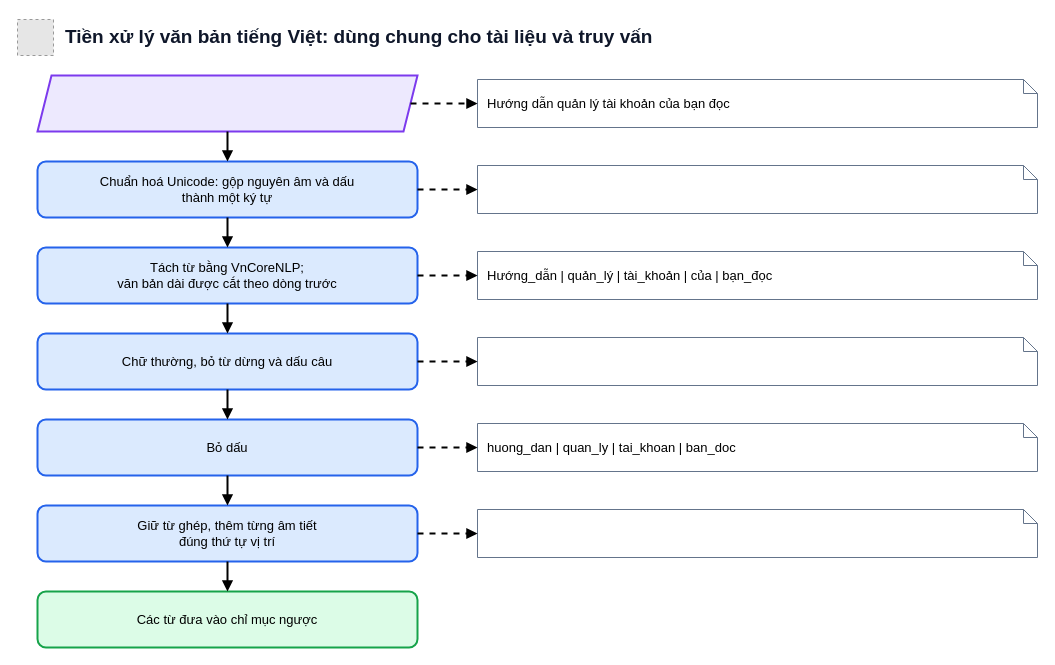
Some shapes in this 1055 by 665 pixel diagram are drawn without their labels. Grey dashed boxes stand in for pictures. The box of each missing label's shape, as (x1, y1, x2, y2) in pixels:
chữ gõ hoặc dán có dấu tách rời vẫn khớp: (476, 164, 1038, 214)
huong_dan huong dan | quan_ly quan ly | tai_khoan tai khoan | ban_doc ban doc: (476, 508, 1038, 558)
hướng_dẫn | quản_lý | tài_khoản | bạn_đọc: (476, 336, 1038, 386)
Văn bản trang, tệp hoặc truy vấn: (36, 74, 418, 132)
